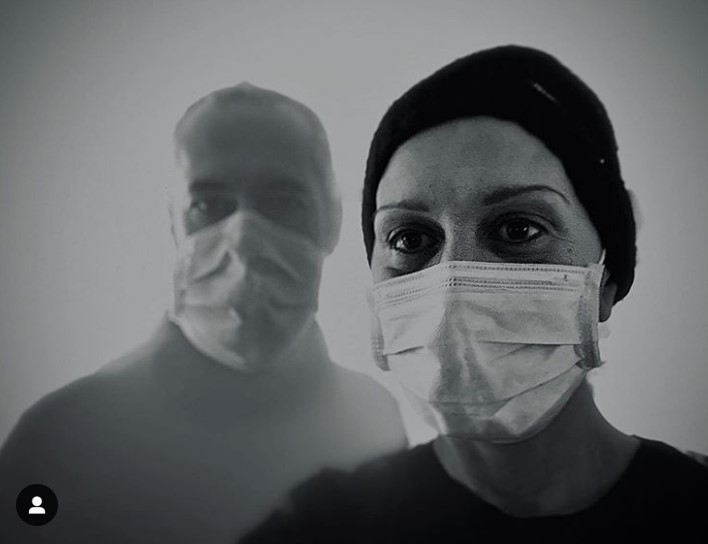face_with_mask: (359, 49, 637, 443), (164, 84, 335, 372)
